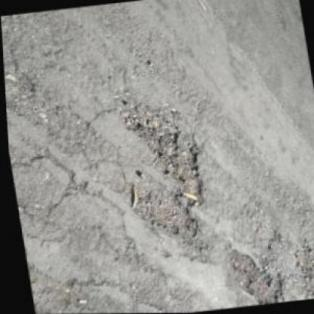Hueco: (111, 100, 211, 249), (285, 236, 313, 300)
